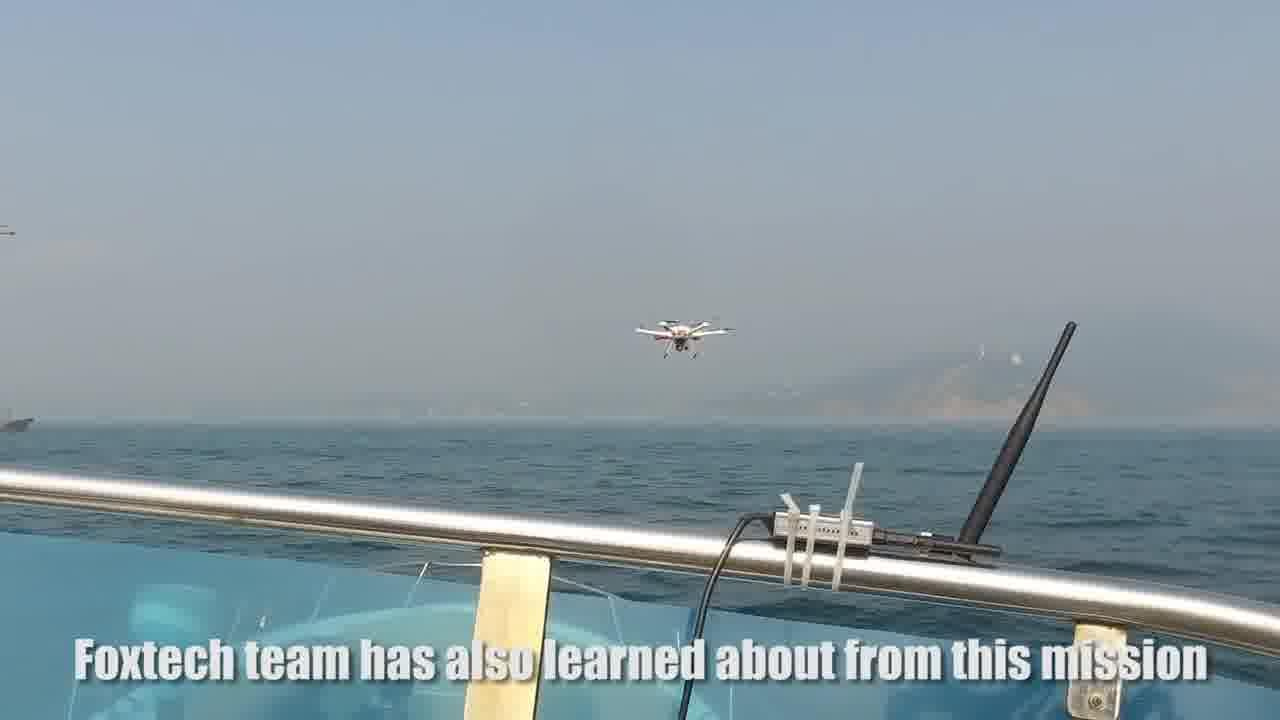drone: (624, 306, 743, 366)
